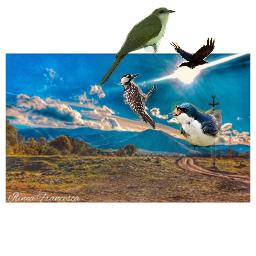Crow: (169, 37, 215, 69)
Cuckoo: (99, 7, 176, 87)
Swallow: (171, 101, 222, 149)
Woodpecker: (120, 73, 157, 129)
